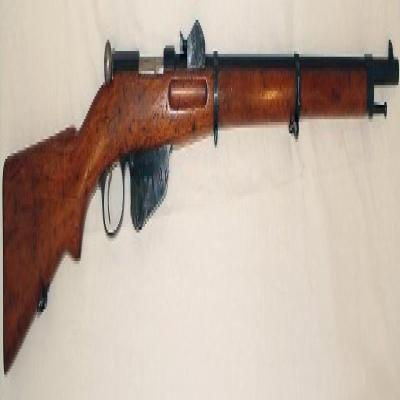weapon: (3, 20, 400, 372)
